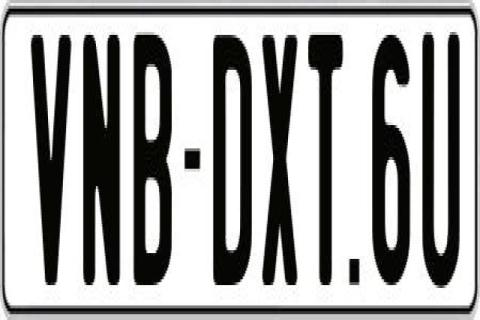0: (372, 29, 414, 294)
B: (130, 29, 174, 288)
D: (212, 32, 252, 291)
N: (80, 35, 116, 291)
T: (305, 32, 343, 282)
U: (420, 24, 458, 288)
V: (30, 32, 74, 288)
X: (262, 27, 297, 280)
